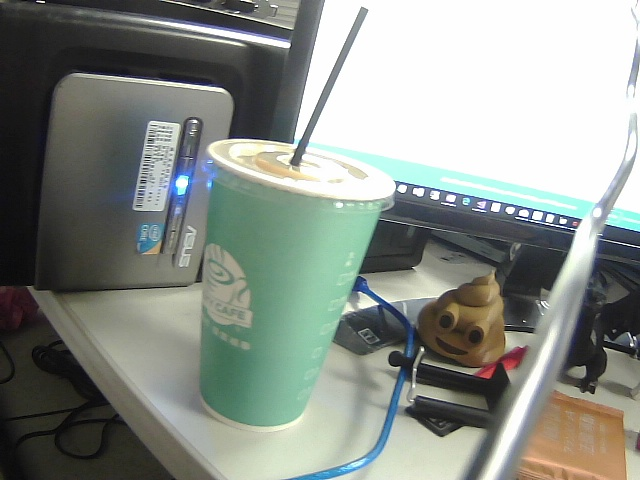beverage: (189, 2, 400, 453)
